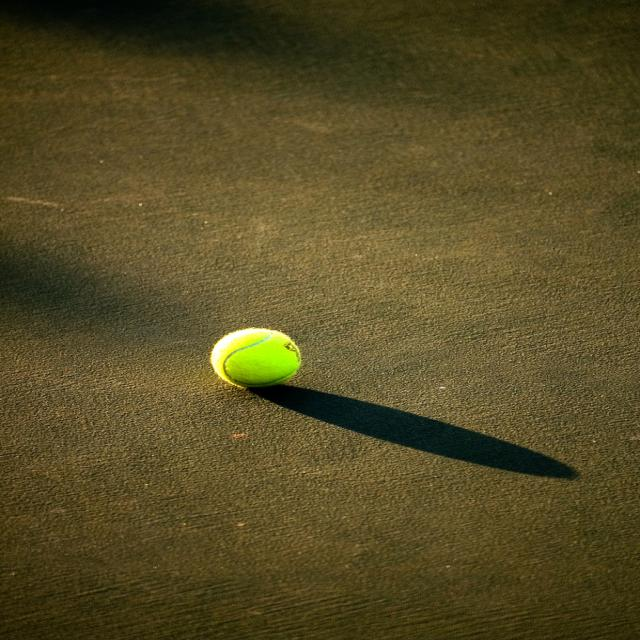Tennis ball: (212, 327, 302, 389)
